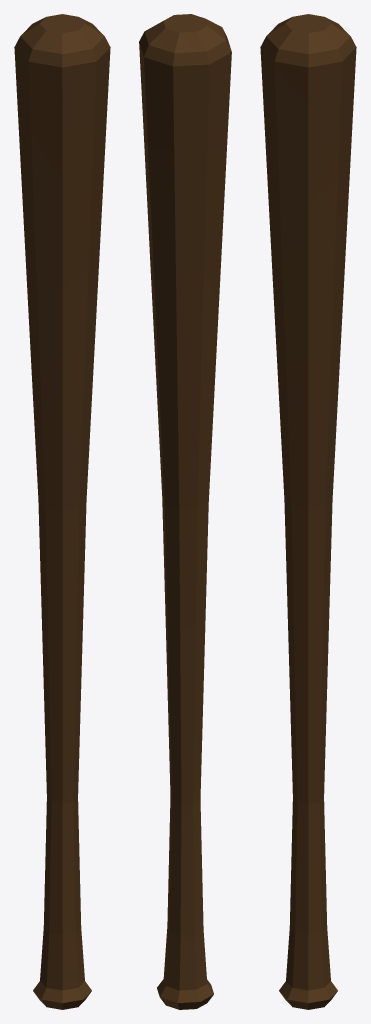
Rendered from BaseballBat.fbx.
The picture shows the model from 3 angles, left to right: view 1: azimuth 90°, elevation 25°; view 2: azimuth 210°, elevation 25°; view 3: azimuth 270°, elevation 25°; orthographic projection.
Parts seen in each view (by area): view 1: Baseball Bat; view 2: Baseball Bat; view 3: Baseball Bat.
Boxes of the visible parts, x1,y1,x2,y2 form: Baseball Bat: (14,14,110,1009); Baseball Bat: (139,14,231,1009); Baseball Bat: (260,14,356,1009).
Bounding box in the file's own units: 8.05 × 90.29 × 8.05.
Materials: 1 (1 with a texture image).
